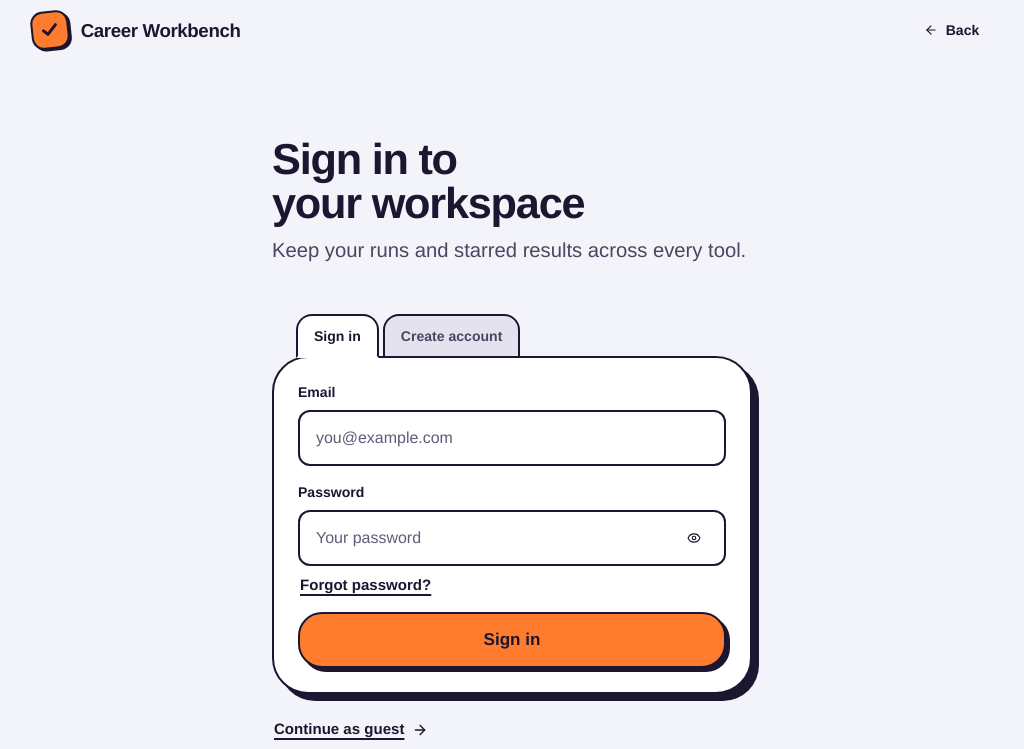
it: LoginPage › heads the reset step with its own title and drops the tabs while it is open
The image size is (1024, 749).
Click the button "Forgot password?". click: {"x": 366, "y": 585}
box: [298, 574, 433, 596]
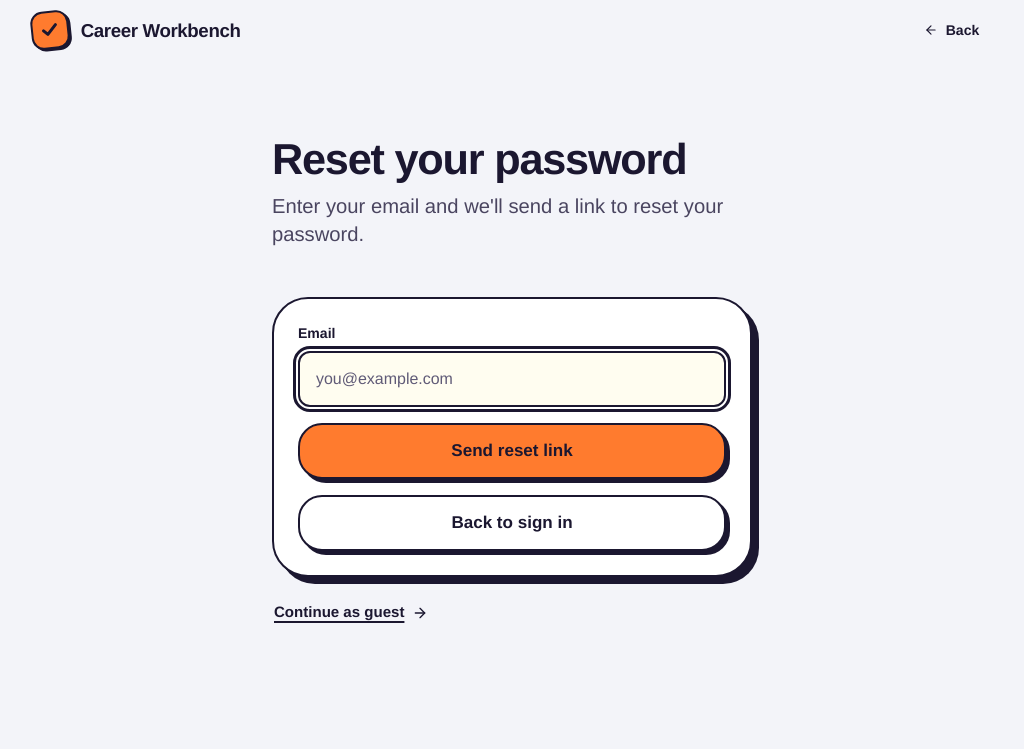
Expected: the number of headings "Reset your password" is 1, [272, 138, 752, 182]
Expected: the heading "Reset your password" is shown, [272, 138, 752, 182]
Expected: the text "Keep your runs and starred results across every tool." is gone
Click the button "Back to sign in". click: {"x": 512, "y": 524}
box: [298, 496, 726, 552]
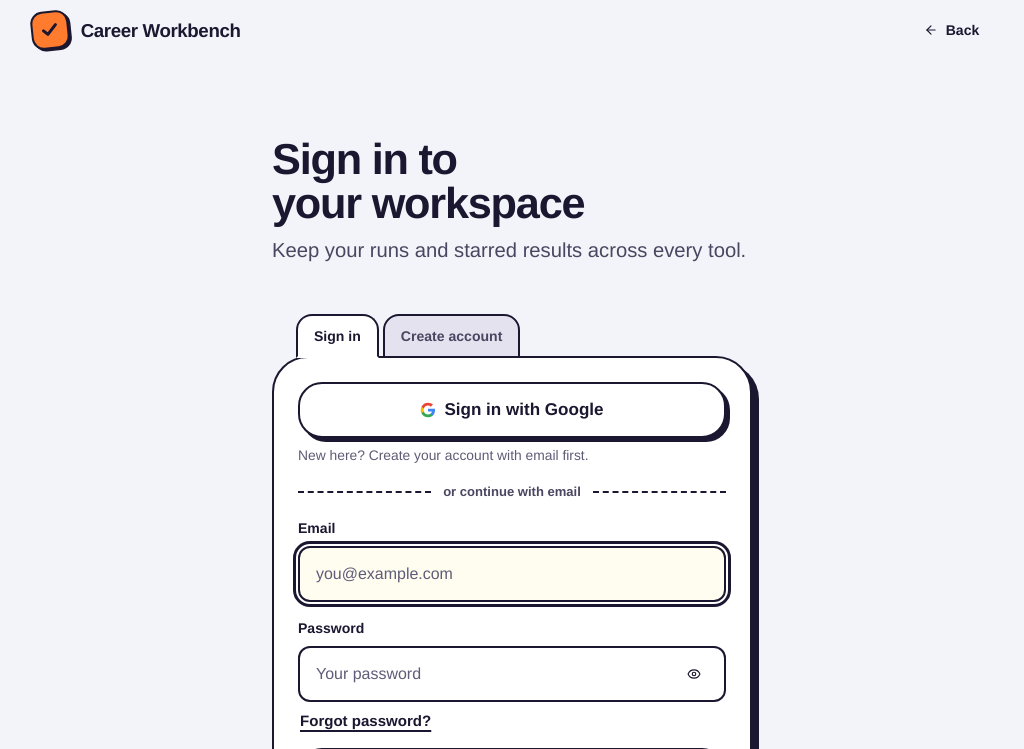
Expected: the heading "Sign in to your workspace" is shown, [272, 133, 584, 230]
Expected: the tab "Sign in" is shown, [296, 314, 379, 358]
